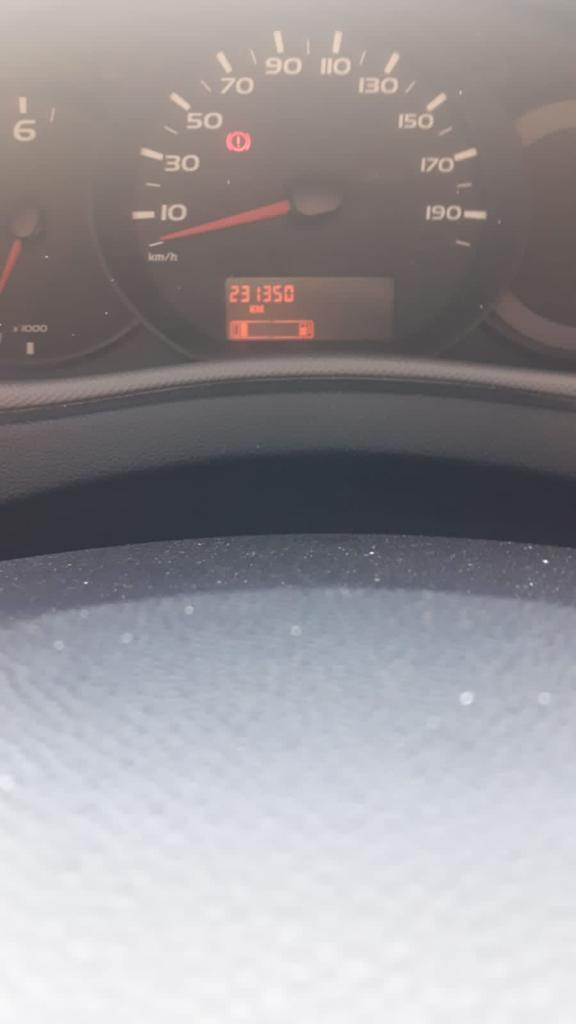0: (284, 283, 294, 303)
1: (255, 284, 261, 303)
2: (228, 283, 239, 303)
3: (262, 284, 271, 303), (241, 284, 250, 303)
5: (272, 284, 282, 302)
X: (256, 304, 264, 313), (248, 304, 255, 313)
odometer: (220, 272, 399, 346)
